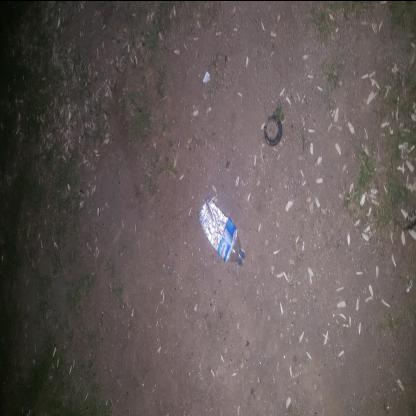plastik: (150, 198, 220, 246), (271, 264, 302, 283)
